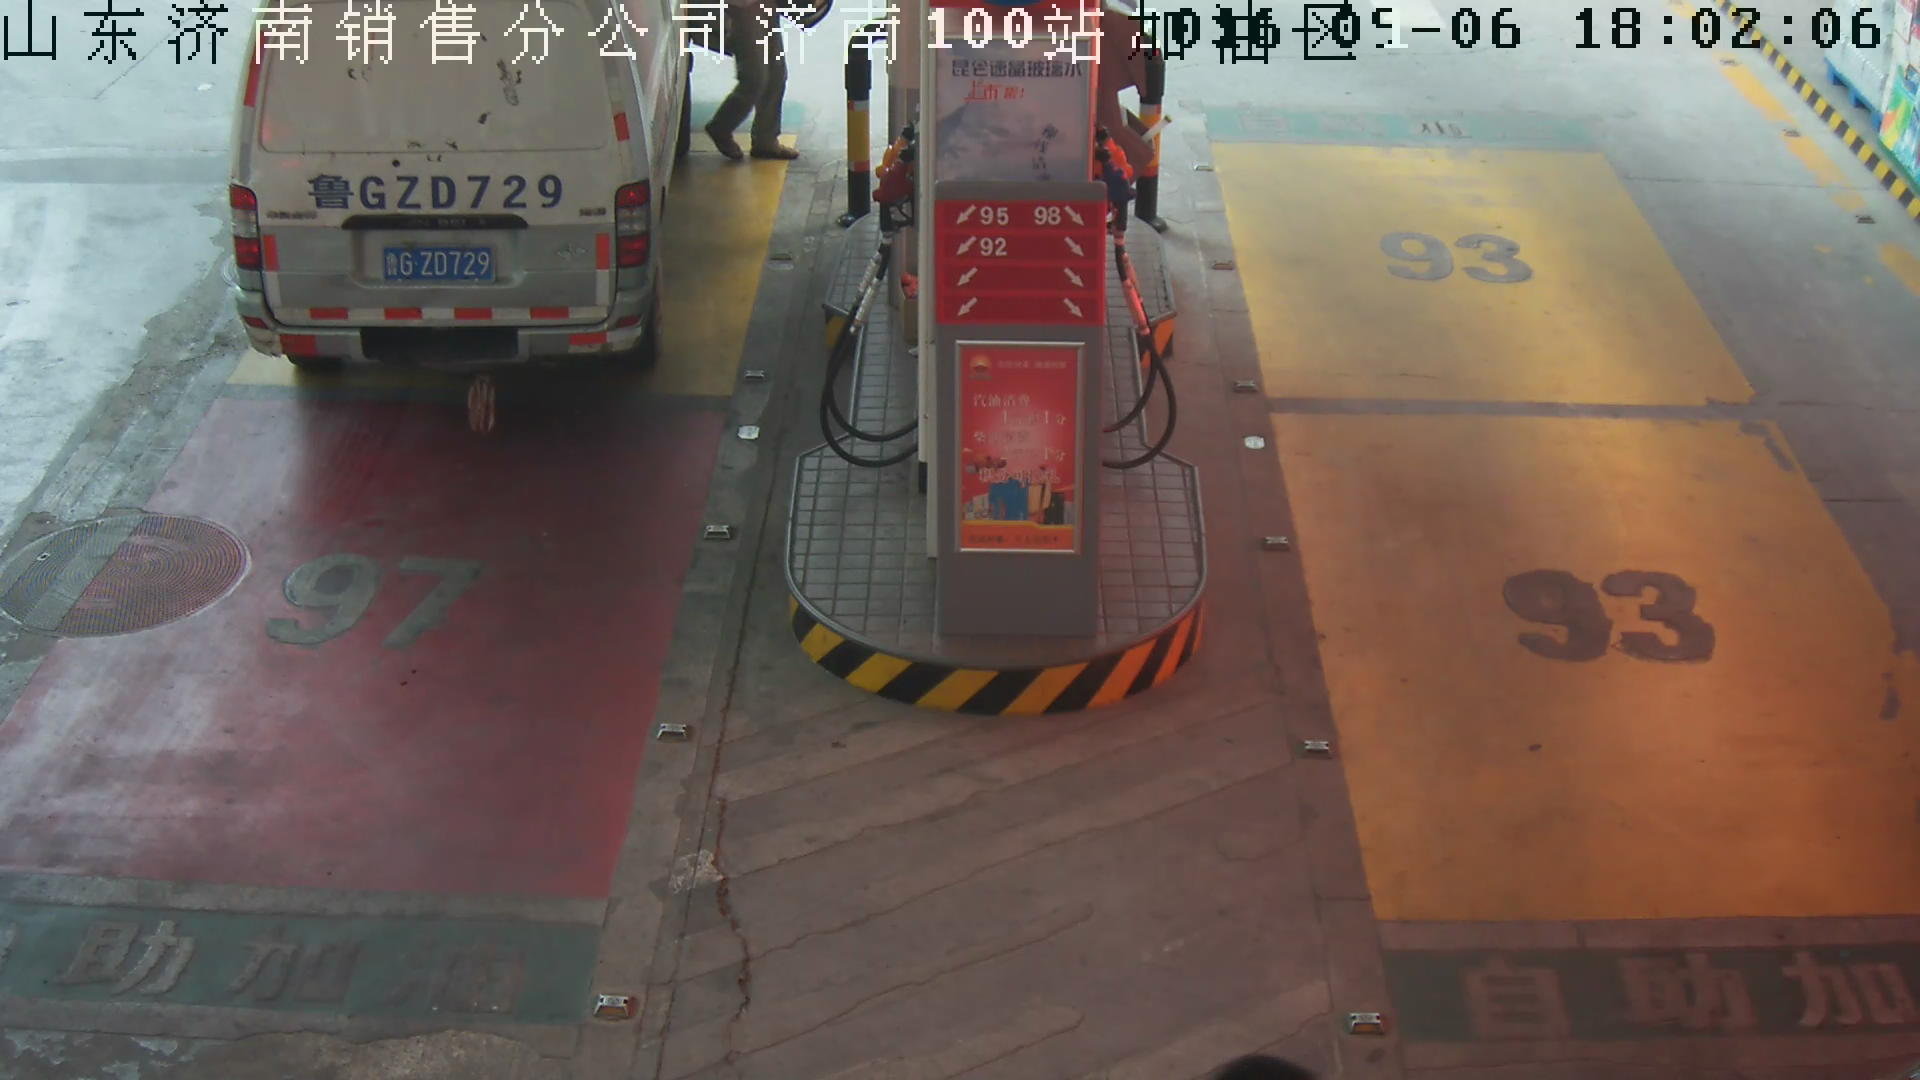blue: (378, 245, 498, 287)
